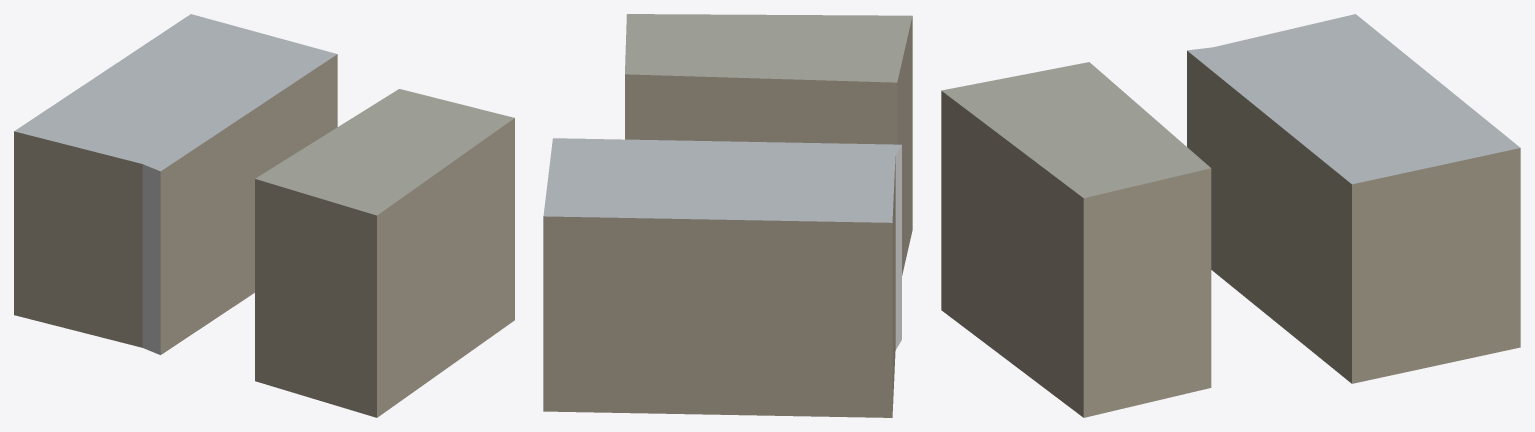
3 views of the same model, side by side, from view 1: azimuth 30°, elevation 25°; view 2: azimuth 150°, elevation 25°; view 3: azimuth 270°, elevation 25° (orthographic). The views are drawn at different scales.
Visible parts, largest first — view 1: tuile; view 2: tuile; view 3: tuile.
Part boxes in pixels (bbox=[...]): tuile: bbox=[14, 14, 514, 417]; tuile: bbox=[543, 14, 912, 417]; tuile: bbox=[941, 14, 1520, 417].
Size of the model in its own units: 25.1 by 12.92 by 30.9.
